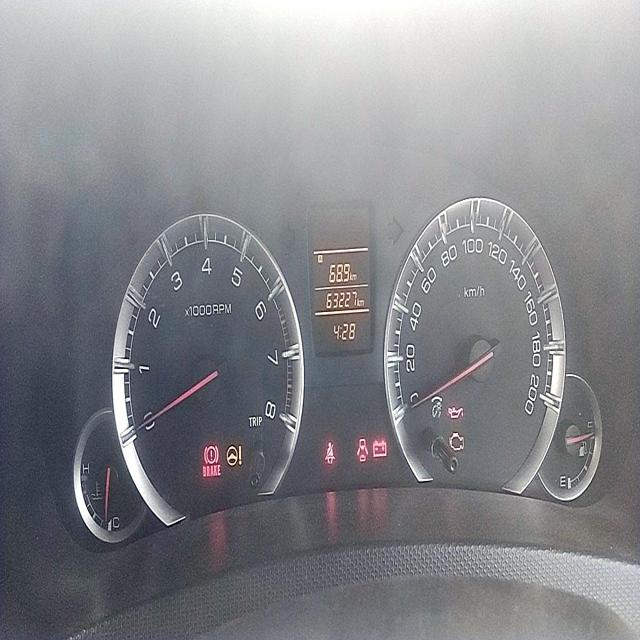odometer: (323, 286, 358, 312)
